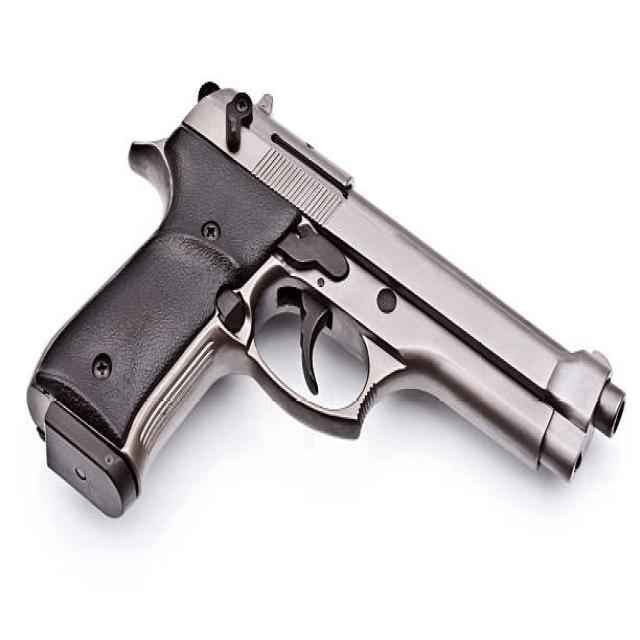pistol: (24, 72, 632, 527)
